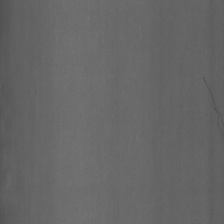water_spot: (200, 69, 224, 132)
